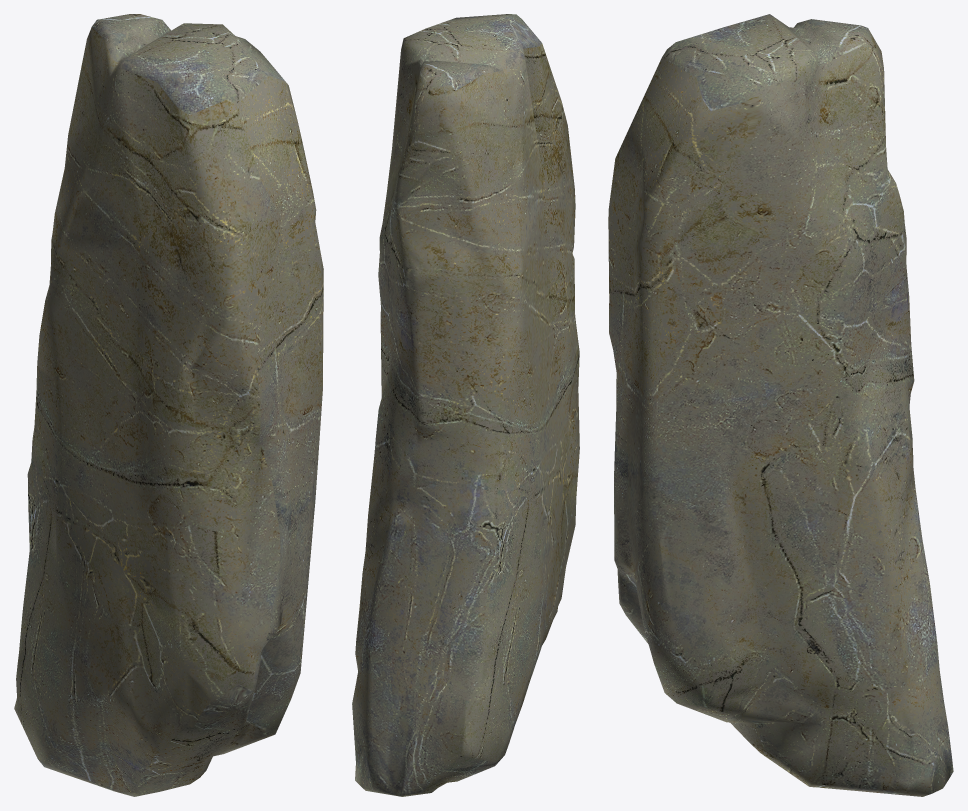
File: cliff2.fbx
3 renders of one model, left to right at view 1: azimuth 30°, elevation 25°; view 2: azimuth 150°, elevation 25°; view 3: azimuth 270°, elevation 25°, orthographic. The views are drawn at different scales.
Visible parts, largest first — view 1: cliff2; view 2: cliff2; view 3: cliff2.
Boxes of the visible parts, left/top/right/bottom form: cliff2: left=14, top=14, right=323, bottom=796; cliff2: left=352, top=14, right=579, bottom=796; cliff2: left=608, top=14, right=953, bottom=796.
Size of the model in its own units: 1149 by 4568 by 1933.
1 material, 1 textured.
